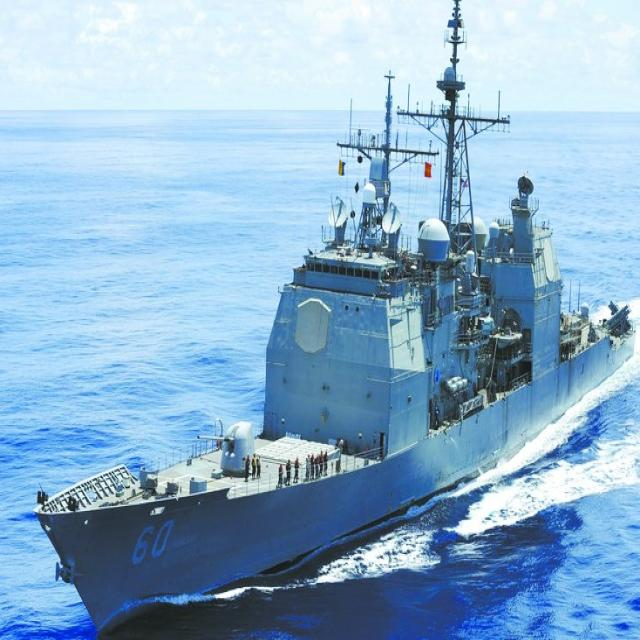navalvessels: (26, 28, 640, 640)
